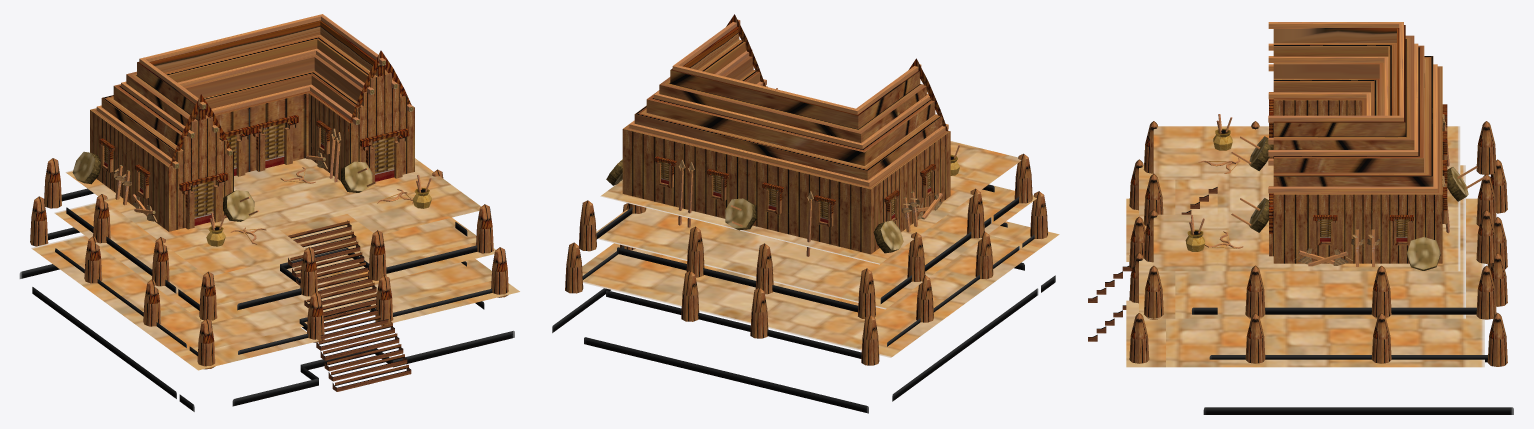
File: fortress.dae
3 views of the same model, side by side, from view 1: azimuth 30°, elevation 25°; view 2: azimuth 150°, elevation 25°; view 3: azimuth 270°, elevation 25° (orthographic). The views are drawn at different scales.
Visible parts, largest first — view 1: fortress; view 2: fortress; view 3: fortress.
Part boxes in pixels (bbox=[...]): fortress: bbox=[19, 14, 519, 411]; fortress: bbox=[552, 14, 1059, 413]; fortress: bbox=[1088, 22, 1513, 414].
Bounding box in the file's own units: 25.54 × 27.65 × 19.1.
